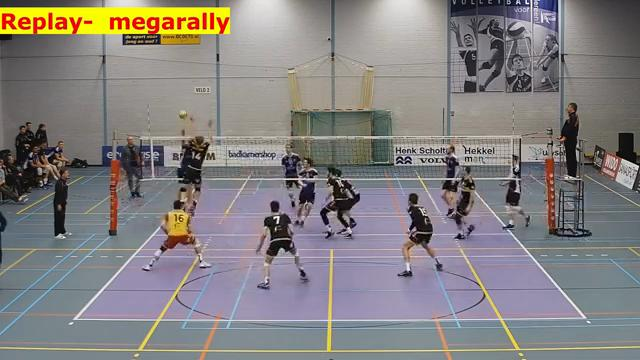attacco: (171, 126, 194, 206)
muro: (175, 113, 216, 218)
